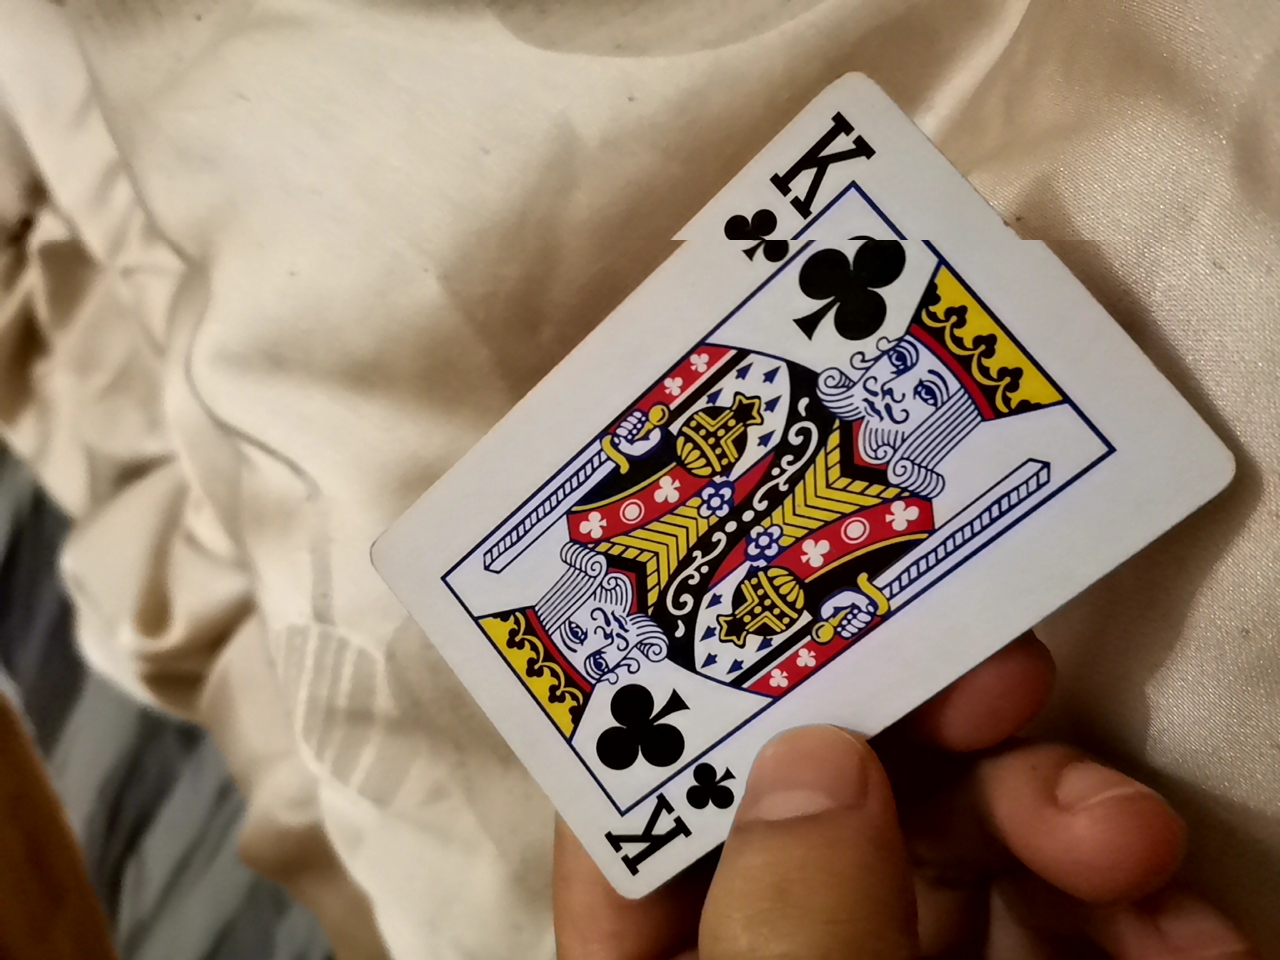mh k: (349, 65, 1215, 899)
